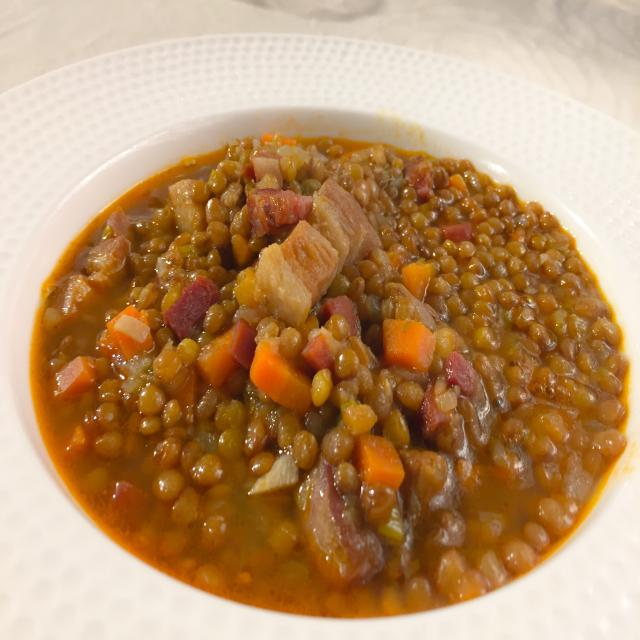lentejas: (33, 109, 633, 618)
